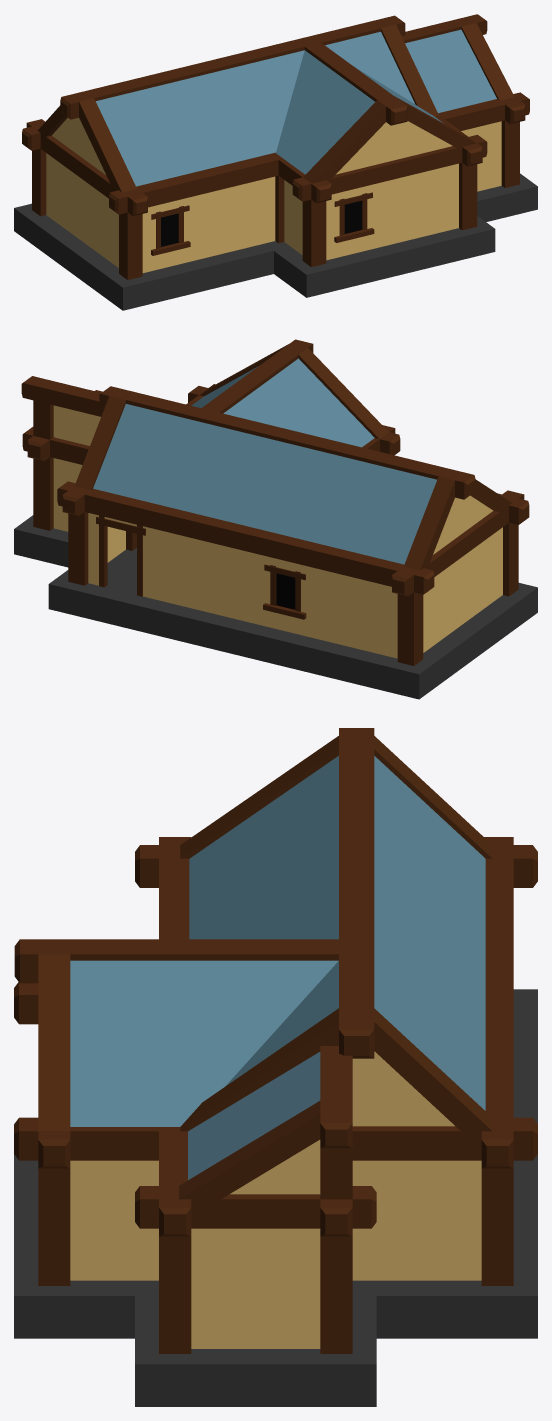
File: MBS_City_SmallHouse01.fbx
3 views of the same model, one above another, from view 1: azimuth 30°, elevation 25°; view 2: azimuth 150°, elevation 25°; view 3: azimuth 270°, elevation 25° (orthographic). The views are drawn at different scales.
Visible parts, largest first — view 1: Cube.613; view 2: Cube.613; view 3: Cube.613.
Boxes of the visible parts, x1=… form: Cube.613: x1=14, y1=14, x2=537, y2=310; Cube.613: x1=14, y1=339, x2=537, y2=699; Cube.613: x1=14, y1=728, x2=537, y2=1406.
Bounding box in the file's own units: 2204 × 840 × 1300.
